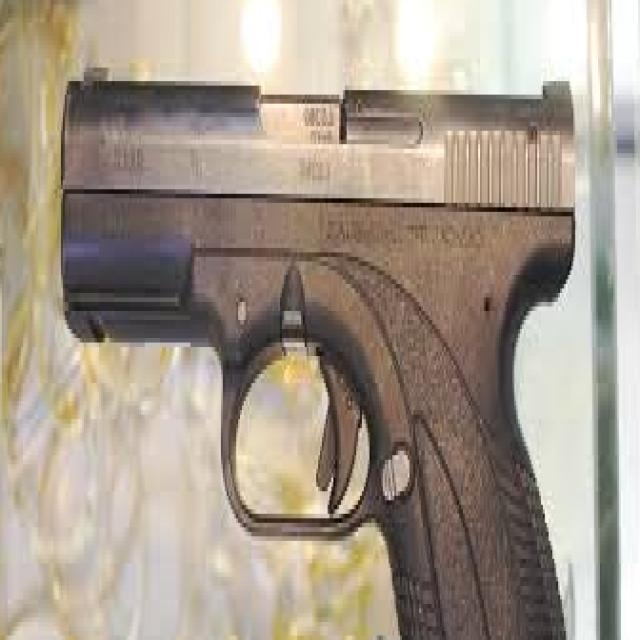Gun: (50, 67, 570, 640)
